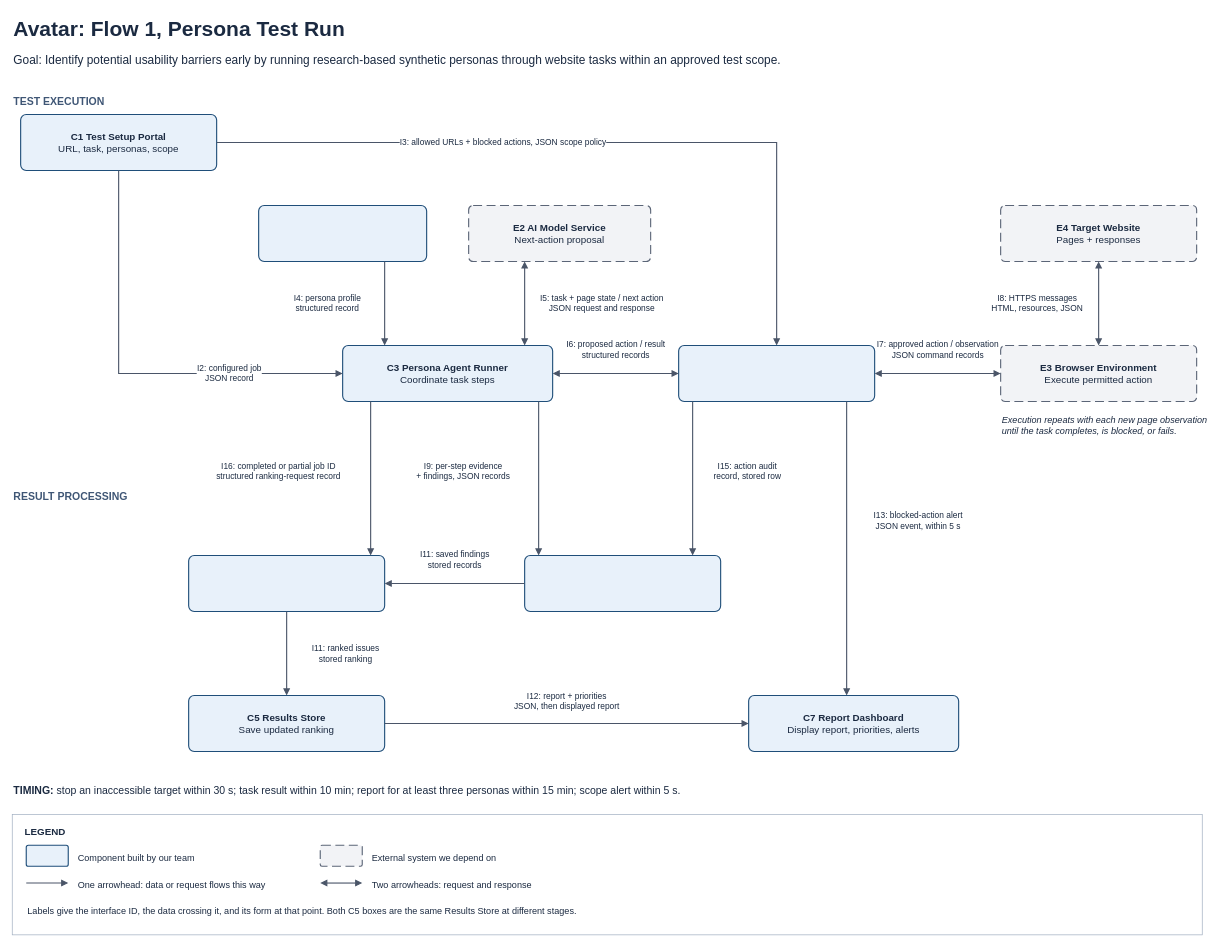
This 1223x947 diagram has some shape labels left out. Each missing label, with the centre of its shape:
C2 Persona Library Profiles + review status: pixel 342 233
C4 Scope Guard Enforce approved scope: pixel 776 373
C5 Results Store Save task evidence + audit: pixel 622 583
C6 Findings Prioritizer Rank validated findings: pixel 286 583
